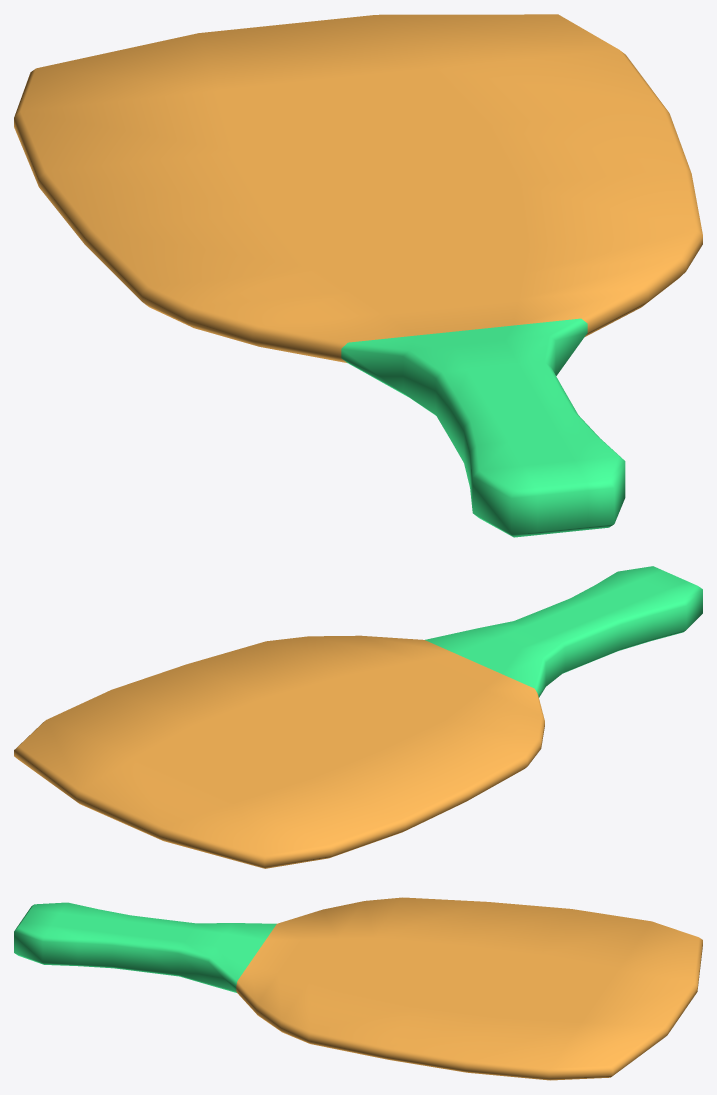
The model's file is ToyObject_035.fbx.
3 views of the same model, one above another, from view 1: azimuth 30°, elevation 25°; view 2: azimuth 150°, elevation 25°; view 3: azimuth 270°, elevation 25° (orthographic). The views are drawn at different scales.
Parts seen in each view (by area): view 1: 1.037; view 2: 1.037; view 3: 1.037.
Boxes of the visible parts, bbox=[...] form: 1.037: bbox=[14, 14, 702, 537]; 1.037: bbox=[14, 566, 702, 868]; 1.037: bbox=[14, 897, 702, 1080].
Bounding box in the file's own units: 0.1394 × 0.0105 × 0.2331.
